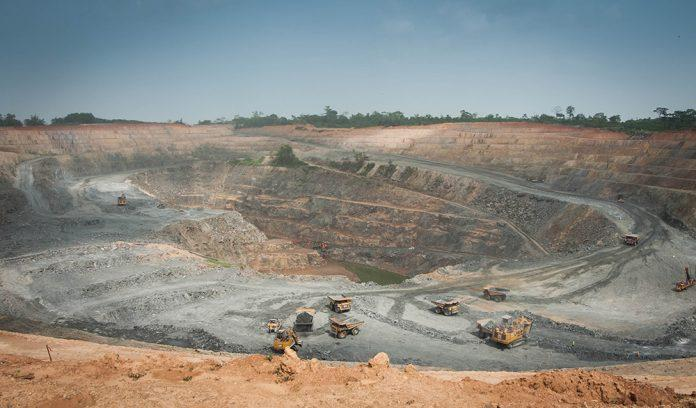ExcavationMachinery: (491, 312, 536, 347), (328, 314, 363, 338), (272, 329, 303, 353), (671, 266, 696, 294), (292, 305, 314, 332), (428, 297, 460, 315), (475, 317, 500, 337), (482, 285, 511, 302), (328, 294, 352, 312), (621, 230, 639, 245), (267, 317, 282, 332), (116, 193, 127, 205)
